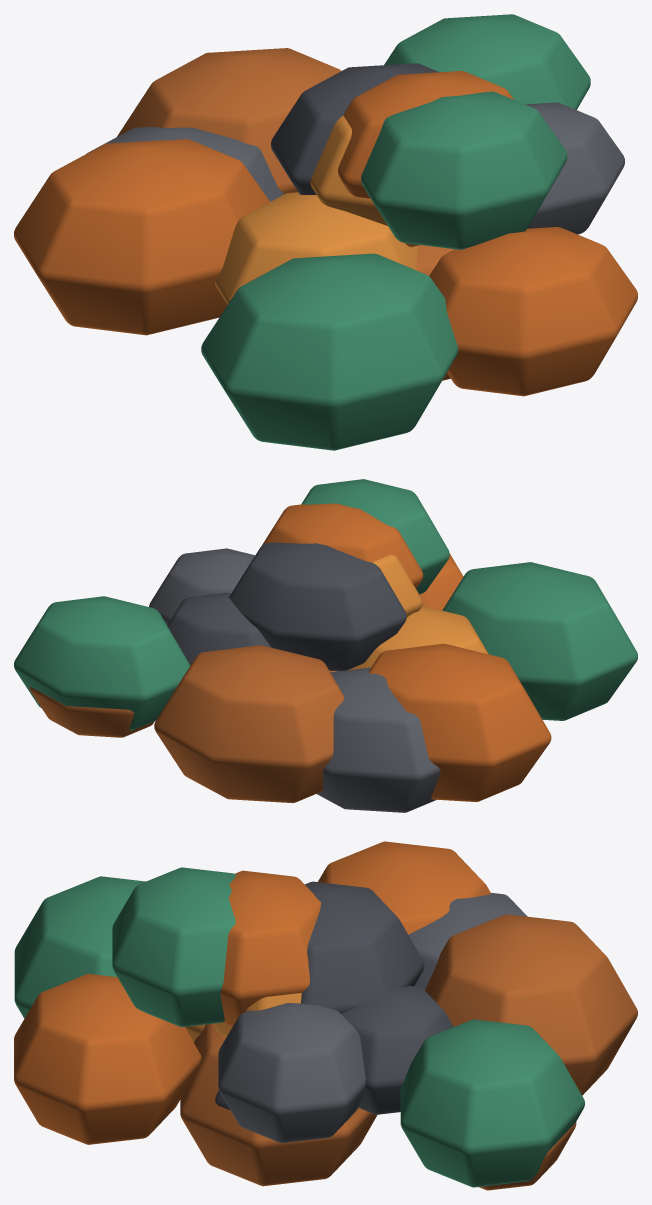
Rendered from minerio.glb.
The picture shows the model from 3 angles, top to bottom: view 1: azimuth 30°, elevation 25°; view 2: azimuth 150°, elevation 25°; view 3: azimuth 270°, elevation 25°; orthographic projection. The views are drawn at different scales.
Visible parts, largest first — view 1: minerio; view 2: minerio; view 3: minerio.
Boxes of the visible parts, box(x1,y1,x2,y2) form: minerio: box(14, 14, 637, 450); minerio: box(14, 479, 637, 812); minerio: box(14, 841, 637, 1190).
Bounding box in the file's own units: 1.22 × 0.6013 × 1.15.
